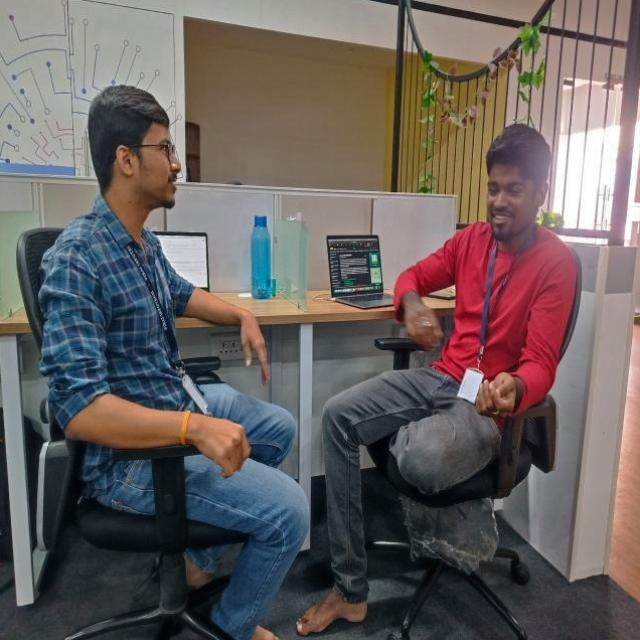ID_card: (128, 255, 218, 411), (467, 253, 489, 402)
